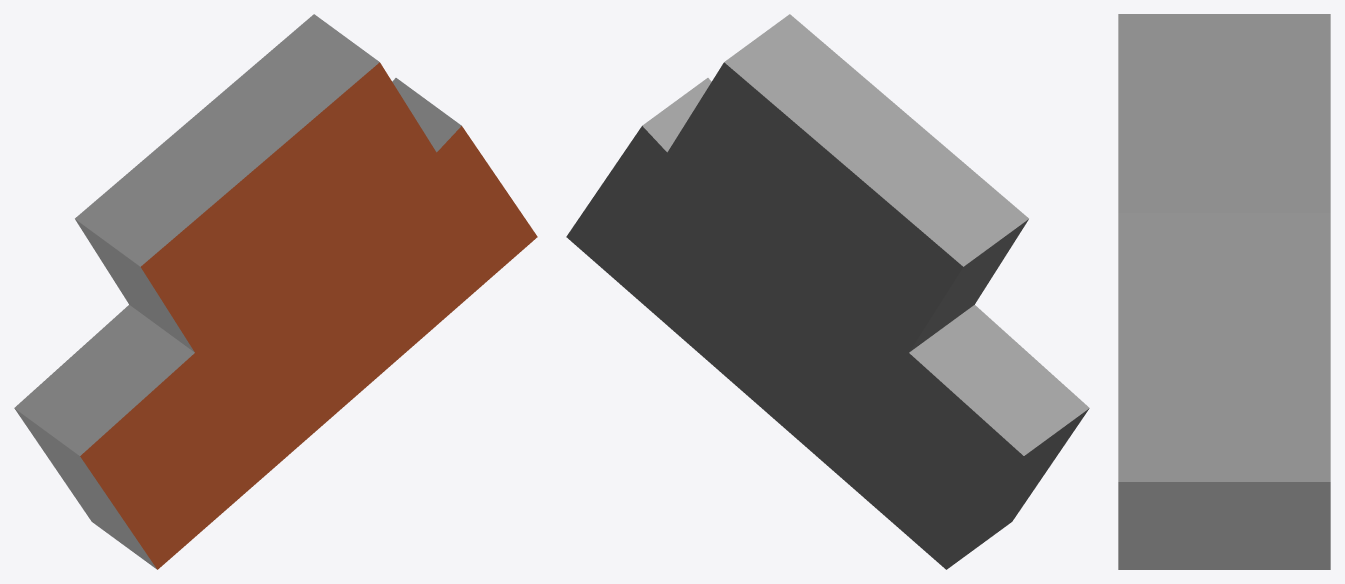
File: construction_5072_assumed_A_Casa_h6m.obj
The picture shows the model from 3 angles, left to right: view 1: azimuth 30°, elevation 25°; view 2: azimuth 150°, elevation 25°; view 3: azimuth 270°, elevation 25°; orthographic projection. The views are drawn at different scales.
Visible parts, largest first — view 1: construction_5072_assumed_A_Casa; view 2: construction_5072_assumed_A_Casa; view 3: construction_5072_assumed_A_Casa.
Boxes of the visible parts, x1=… form: construction_5072_assumed_A_Casa: x1=14, y1=14, x2=537, y2=569; construction_5072_assumed_A_Casa: x1=566, y1=14, x2=1089, y2=569; construction_5072_assumed_A_Casa: x1=1118, y1=14, x2=1330, y2=569.
Size of the model in its own units: 24.09 by 22.8 by 6.
